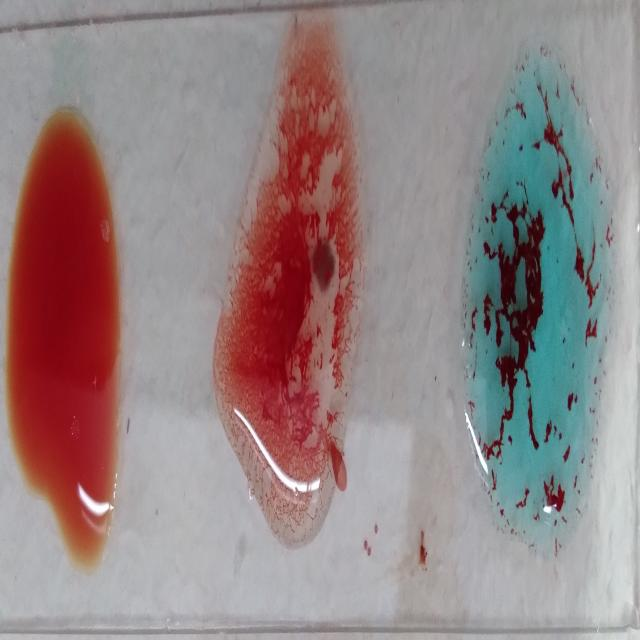A: (457, 64, 615, 552)
D: (228, 36, 354, 551)
